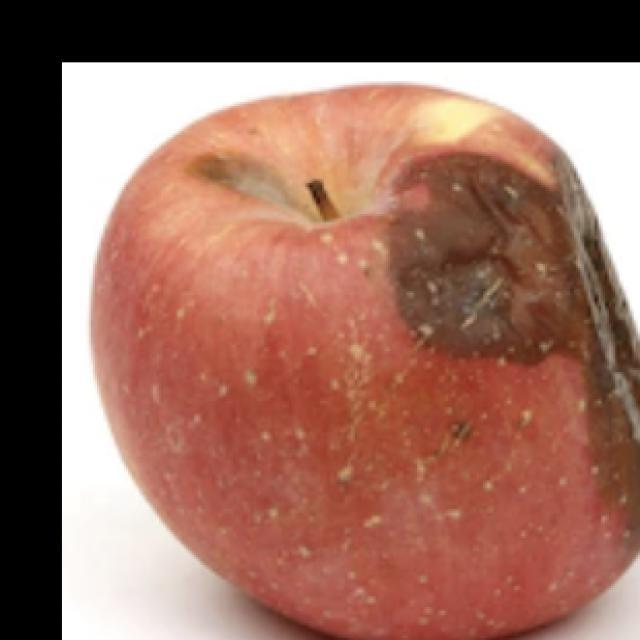Rotten: (76, 88, 639, 640)
